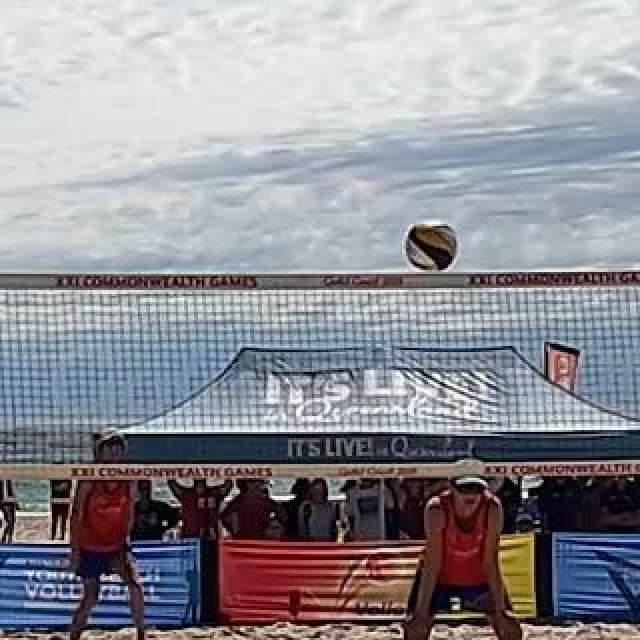volleyball: (404, 222, 458, 272)
